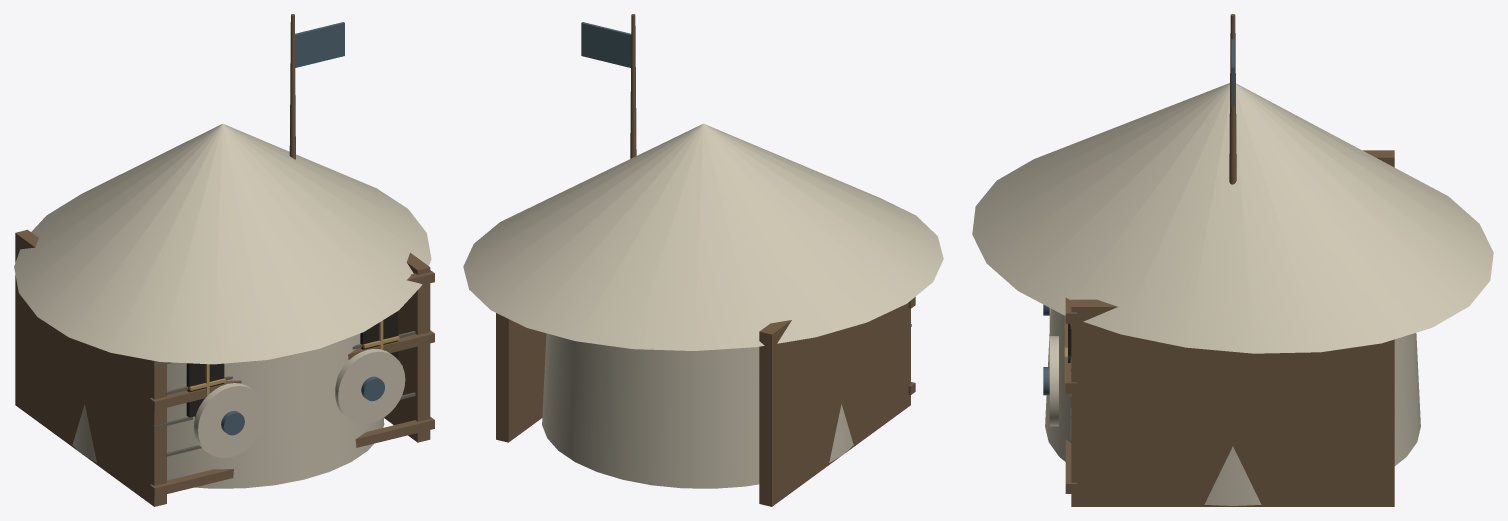
The model's file is b-range-steppe.glb.
The picture shows the model from 3 angles, left to right: view 1: azimuth 30°, elevation 25°; view 2: azimuth 150°, elevation 25°; view 3: azimuth 270°, elevation 25°; orthographic projection. The views are drawn at different scales.
Parts seen in each view (by area): view 1: Structure; view 2: Structure; view 3: Structure.
Part boxes in pixels (<box>): Structure: <box>14,14,434,506</box>; Structure: <box>463,14,943,506</box>; Structure: <box>972,14,1493,506</box>.
Size of the model in its own units: 5.55 by 5.33 by 5.55.
